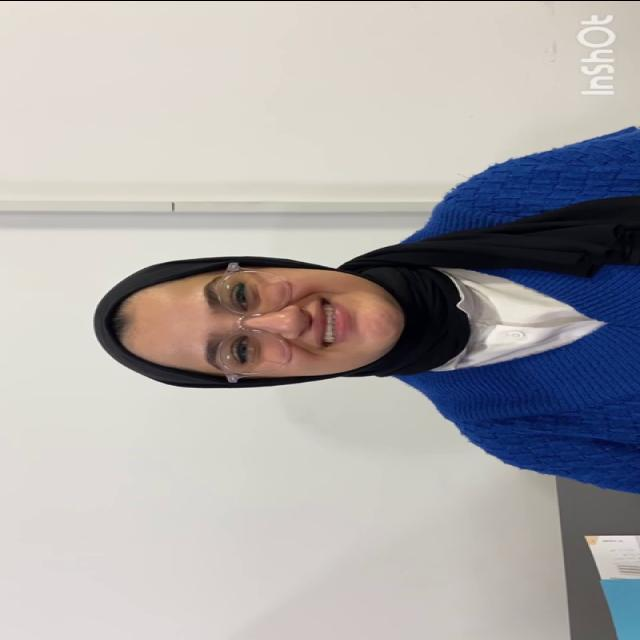happy: (105, 256, 413, 388)
